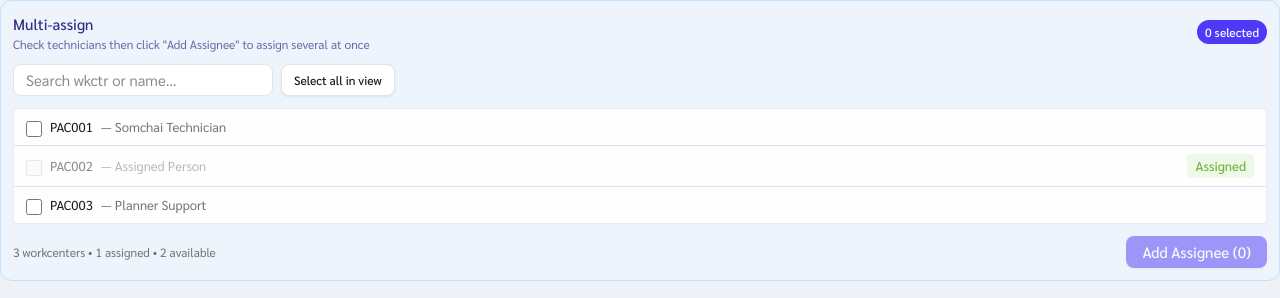
Test: PlanningMultiAssign › searches, blocks already assigned users, selects visible users, and submits selected codes
Expected: the text "Assigned" is shown, [1188,154,1254,178]
Type "Somchai" into the field with placeholder "Search wkctr or name…".
click(143, 80); type("Somchai")  # box [13,64,273,96]
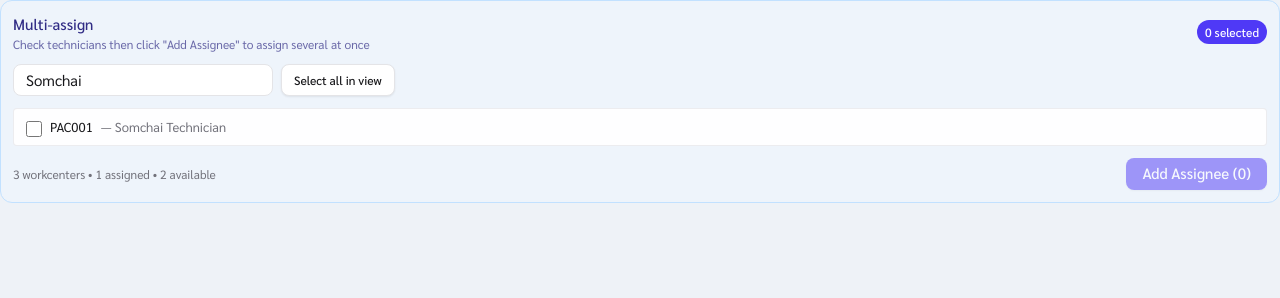
Expected: the text "PAC001" is shown, [50,116,93,136]
Expected: the text "PAC003" is gone
Click the button "Select all in view".
click(338, 80)  # box [281,64,395,96]
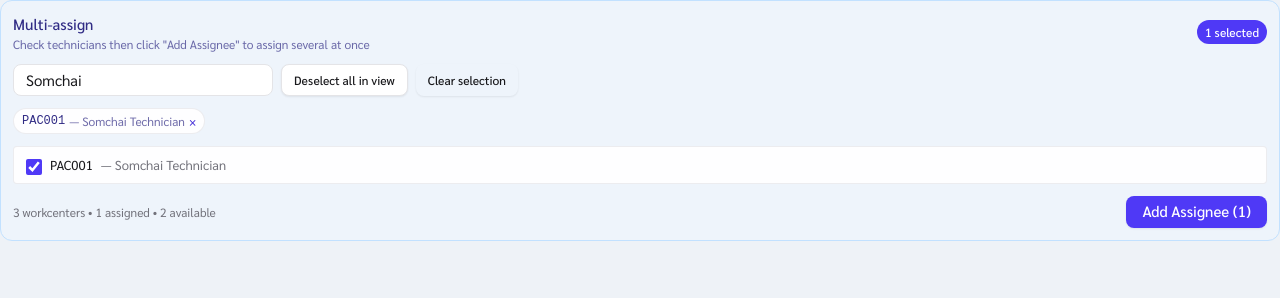
Click the button "Add Assignee (1)".
click(1197, 212)  # box [1126,196,1267,228]
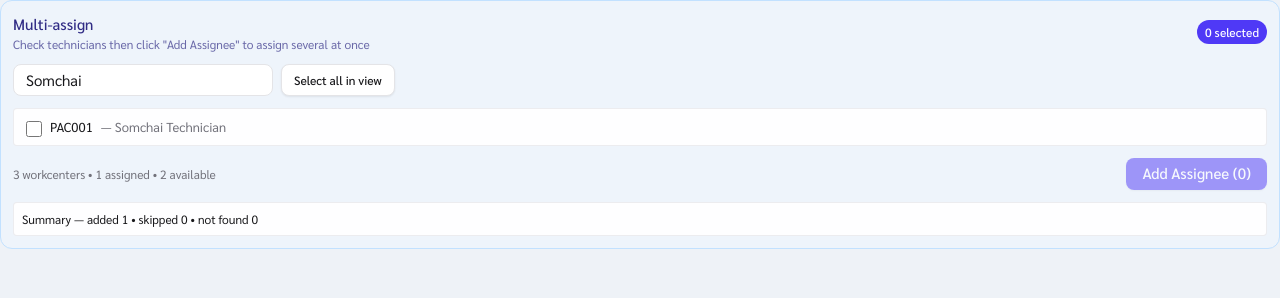
Expected: the text "Summary — added 1 • skipped 0 • not found 0" is shown, [22,210,258,226]
